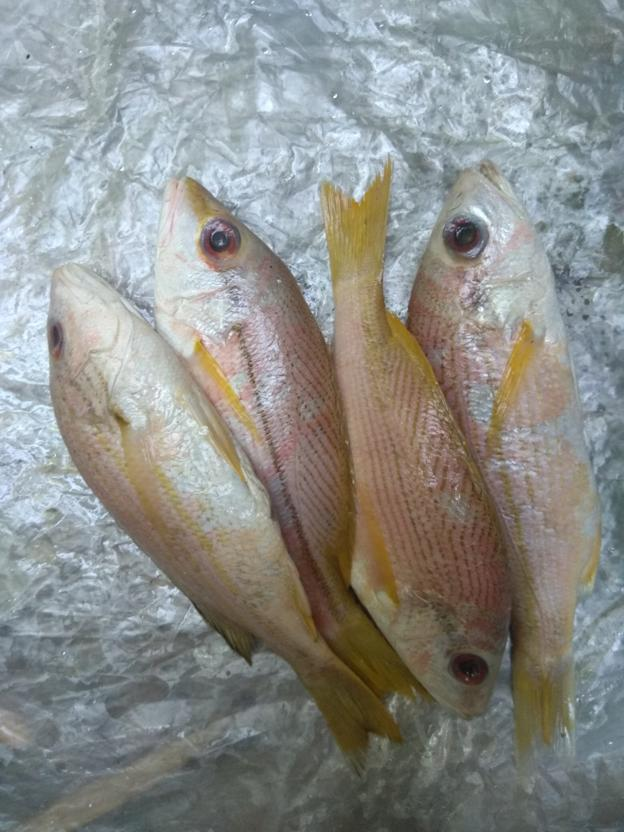Fish head: (416, 167, 554, 334), (153, 177, 273, 332), (387, 589, 510, 719), (46, 263, 136, 424)
Fish tail: (296, 646, 405, 778), (317, 153, 397, 293), (325, 611, 421, 702), (513, 635, 577, 763)
